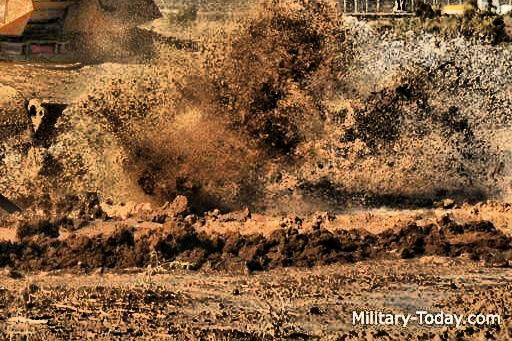tanks: (1, 1, 83, 144), (108, 1, 137, 12), (139, 1, 143, 4)
